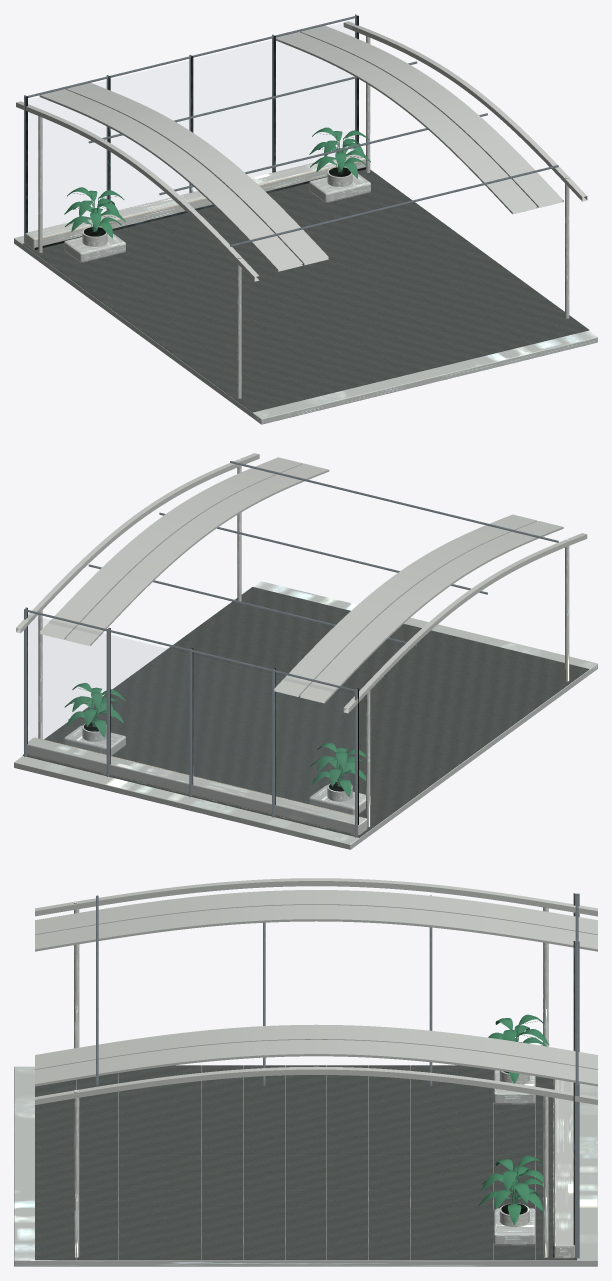
File: architecture.glb
3 renders of one model, top to bottom at view 1: azimuth 30°, elevation 25°; view 2: azimuth 150°, elevation 25°; view 3: azimuth 270°, elevation 25°, orthographic. The views are drawn at different scales.
Visible parts, largest first — view 1: Static_Architecture; view 2: Static_Architecture; view 3: Static_Architecture.
Part boxes in pixels (x1,y1,x2,y2): Static_Architecture: (14, 14, 597, 424); Static_Architecture: (14, 453, 597, 849); Static_Architecture: (14, 878, 597, 1266).
Size of the model in its own units: 22 by 10.48 by 28.
9 materials, 4 textured.
